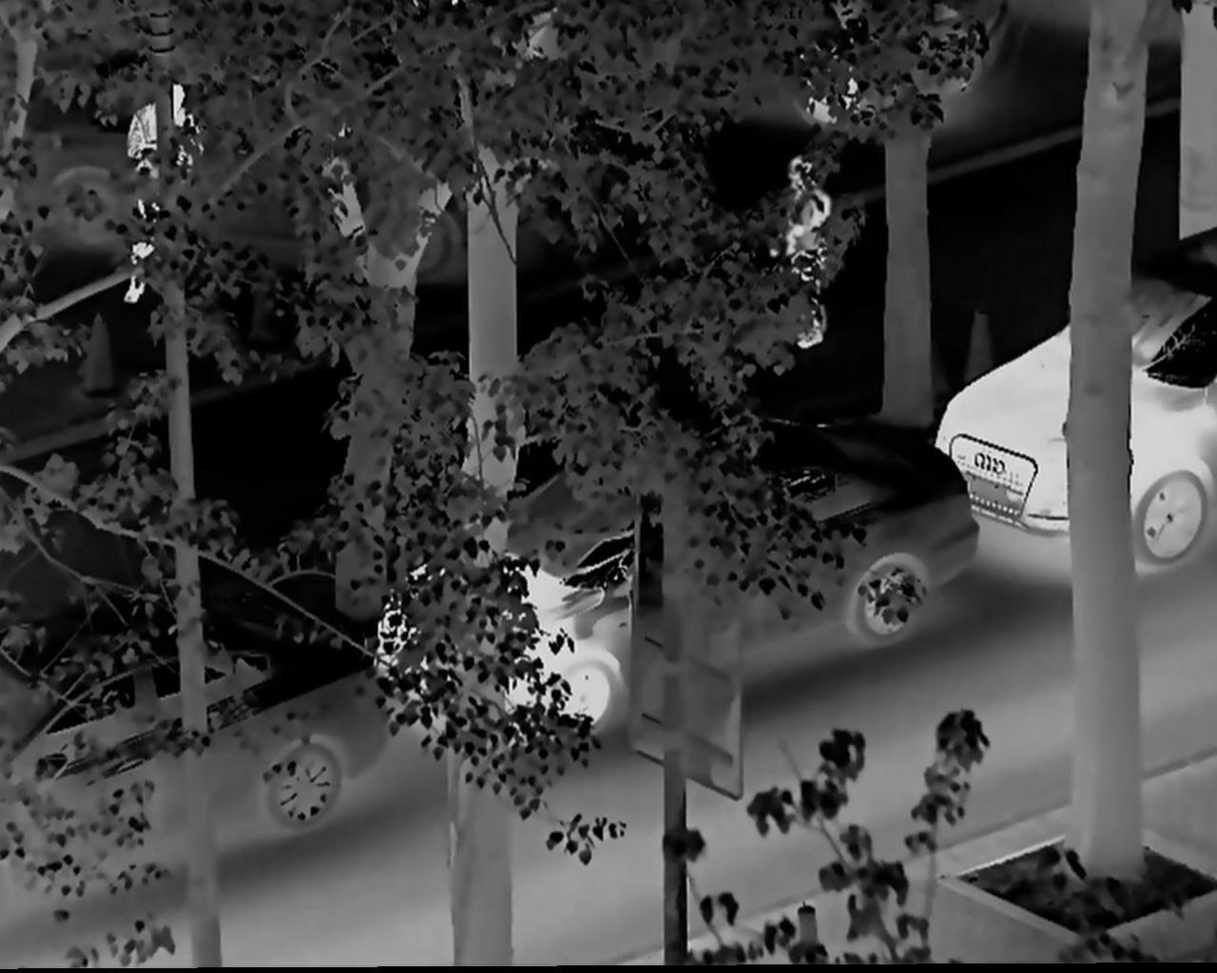person: (115, 72, 205, 306), (763, 158, 838, 363)
